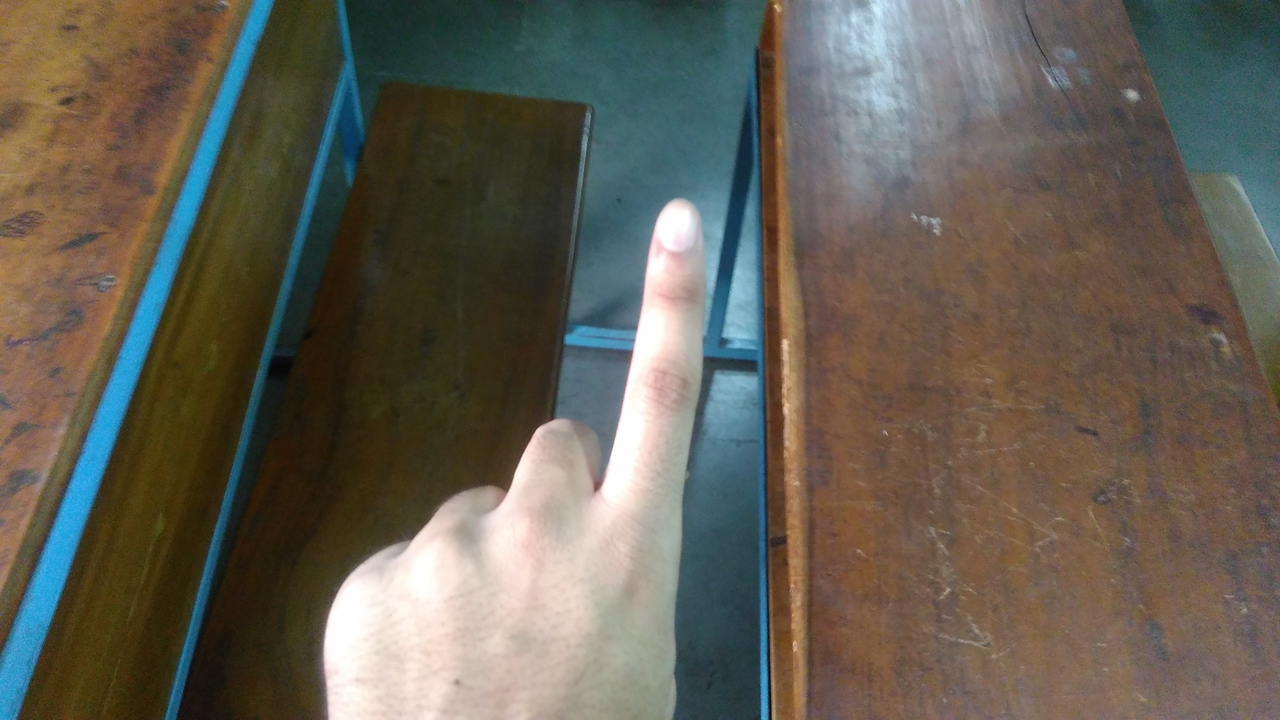fingertip: (644, 188, 710, 266)
